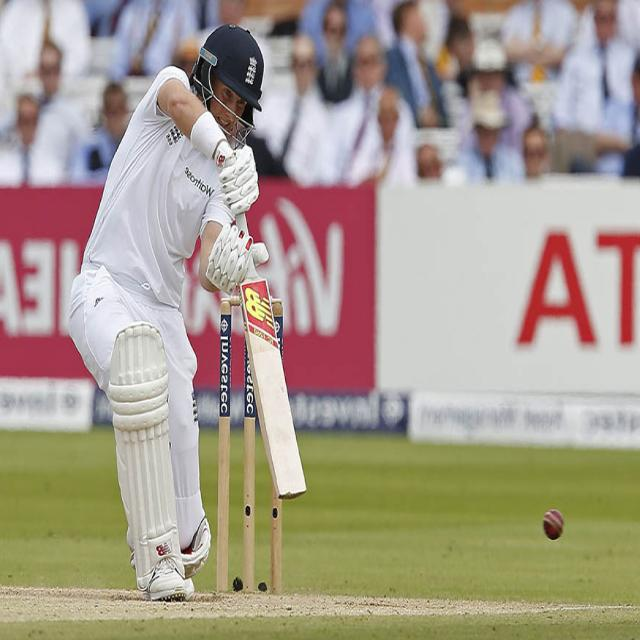ball: (533, 498, 566, 551)
stump: (242, 338, 307, 596), (214, 297, 240, 597)
